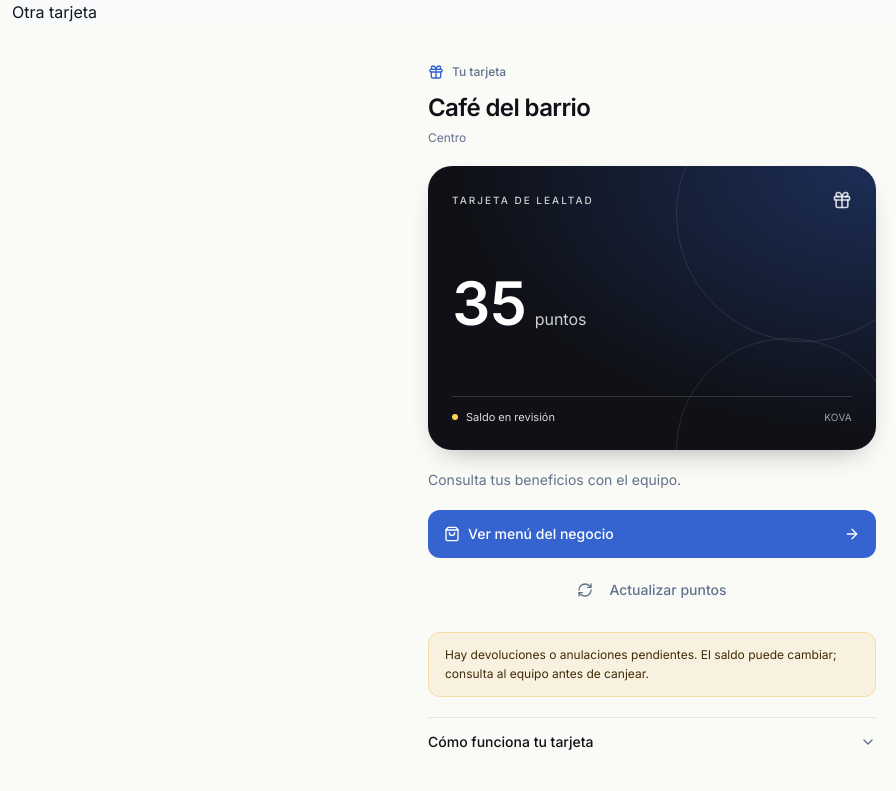
Test: shows pending reversals without treating the balance as redeemable credit
expect the text "Saldo en revisión" is shown: met, box x1=452 y1=409 x2=555 y2=426
Click the heading "Cómo funciona tu tarjeta" at [511, 741], box x1=428 y1=732 x2=876 y2=750
(page scrolled)
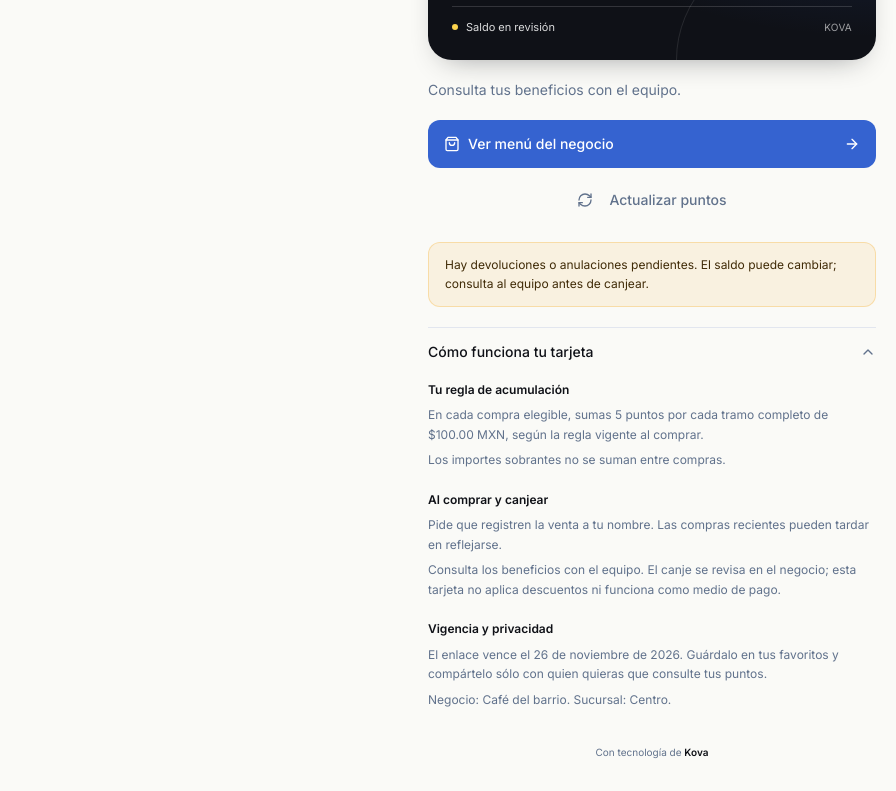
expect the text "Las compras recientes pueden tardar" is shown: met, box x1=428 y1=517 x2=869 y2=552
expect the text "esta tarjeta no aplica descuentos" is shown: met, box x1=428 y1=562 x2=856 y2=596
